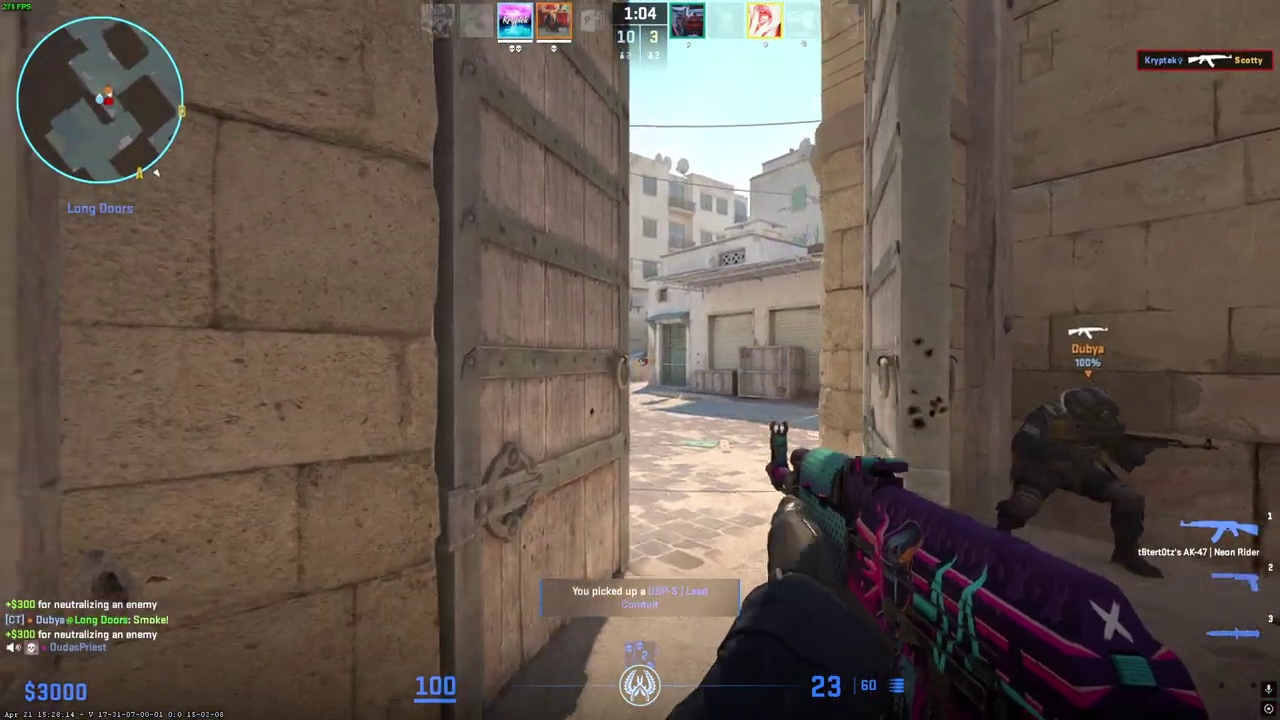CT: (1005, 386, 1157, 579)
